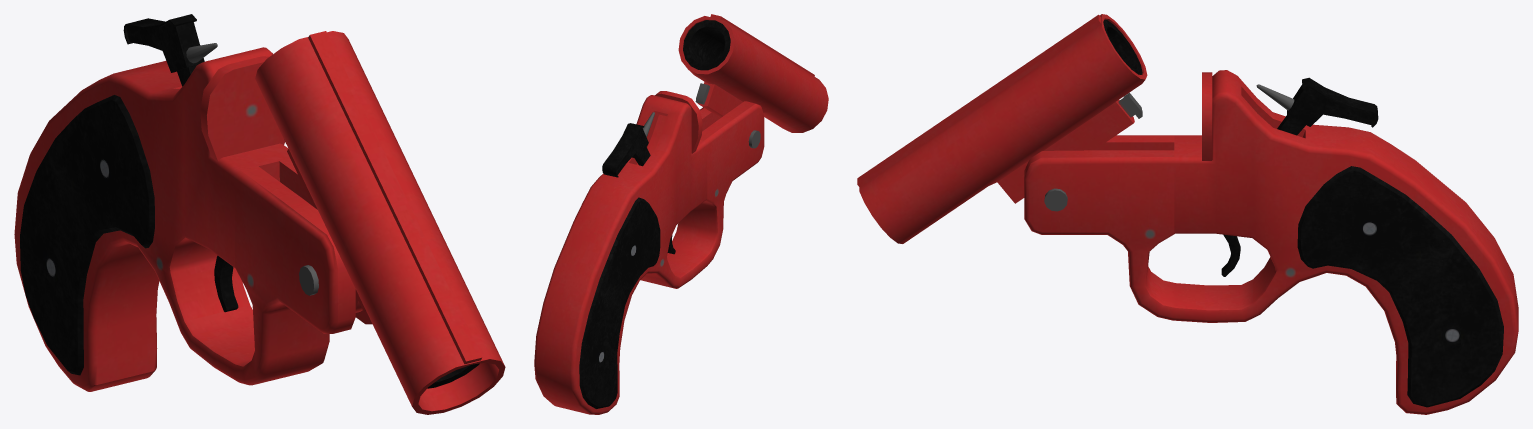
Rendered from flare_gun.high.glb.
3 views of the same model, side by side, from view 1: azimuth 30°, elevation 25°; view 2: azimuth 150°, elevation 25°; view 3: azimuth 270°, elevation 25° (orthographic). The views are drawn at different scales.
Parts seen in each view (by area): view 1: Trigger; view 2: Trigger; view 3: Trigger.
Boxes of the visible parts, x1,y1,x2,y2 form: Trigger: (14, 14, 505, 414); Trigger: (534, 14, 828, 414); Trigger: (857, 14, 1518, 414).
Bounding box in the file's own units: 0.0287 × 0.1546 × 0.24.
Materials: 1 (1 with a texture image).
